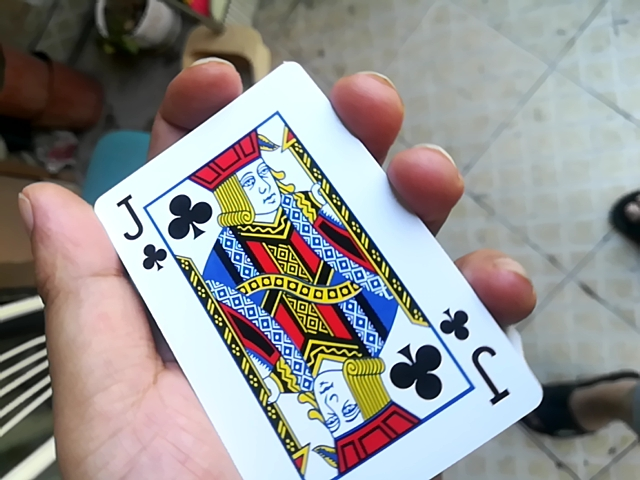mh j: (74, 64, 530, 480)
